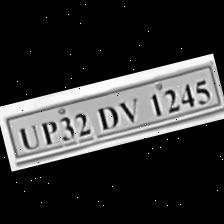1: (139, 88, 164, 120)
2: (69, 105, 94, 138), (155, 84, 180, 114)
3: (52, 110, 76, 142)
4: (173, 79, 197, 109)
5: (186, 74, 211, 106)
D: (91, 100, 122, 131)
P: (34, 116, 60, 146)
U: (12, 120, 40, 152)
V: (114, 93, 142, 125)
